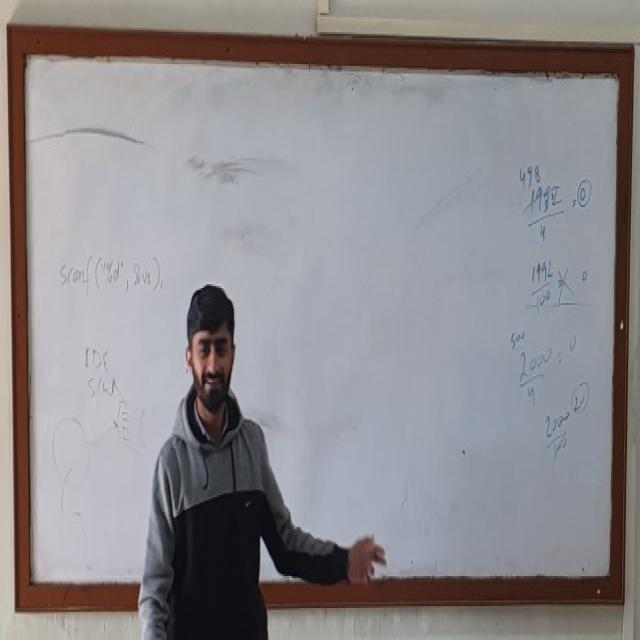Instructor: (147, 268, 275, 640)
White-board: (18, 32, 625, 596)
